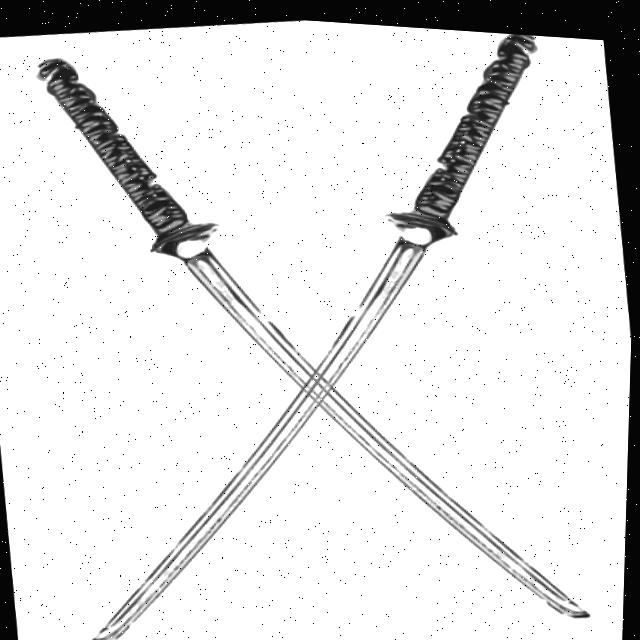knife: (20, 2, 607, 640), (20, 2, 606, 640)
